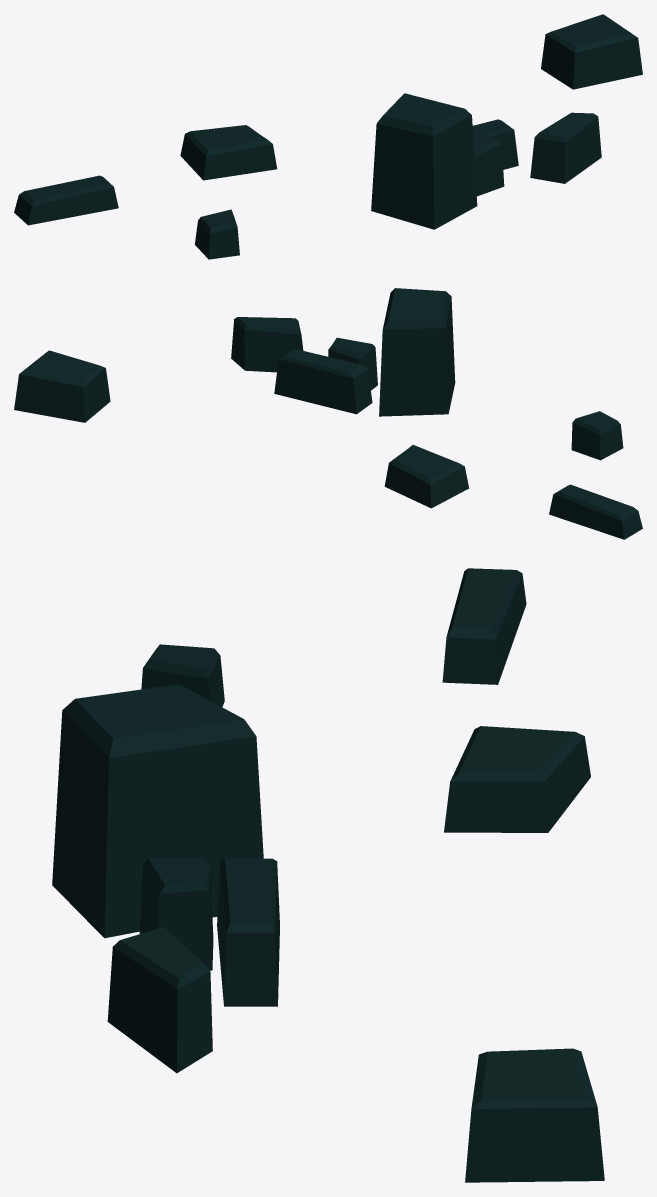
Rendered from stones001_stone_0_lev1.glb.
3 views of the same model, one above another, from view 1: azimuth 30°, elevation 25°; view 2: azimuth 150°, elevation 25°; view 3: azimuth 270°, elevation 25° (orthographic). The views are drawn at different scales.
Parts seen in each view (by area): view 1: stones001_stone_0_lev1; view 2: stones001_stone_0_lev1; view 3: stones001_stone_0_lev1.
Boxes of the visible parts, bbox=[...] form: stones001_stone_0_lev1: bbox=[14, 14, 642, 259]; stones001_stone_0_lev1: bbox=[14, 288, 642, 539]; stones001_stone_0_lev1: bbox=[52, 568, 604, 1182].
Bounding box in the file's own units: 1.9 × 0.2904 × 0.7658.
